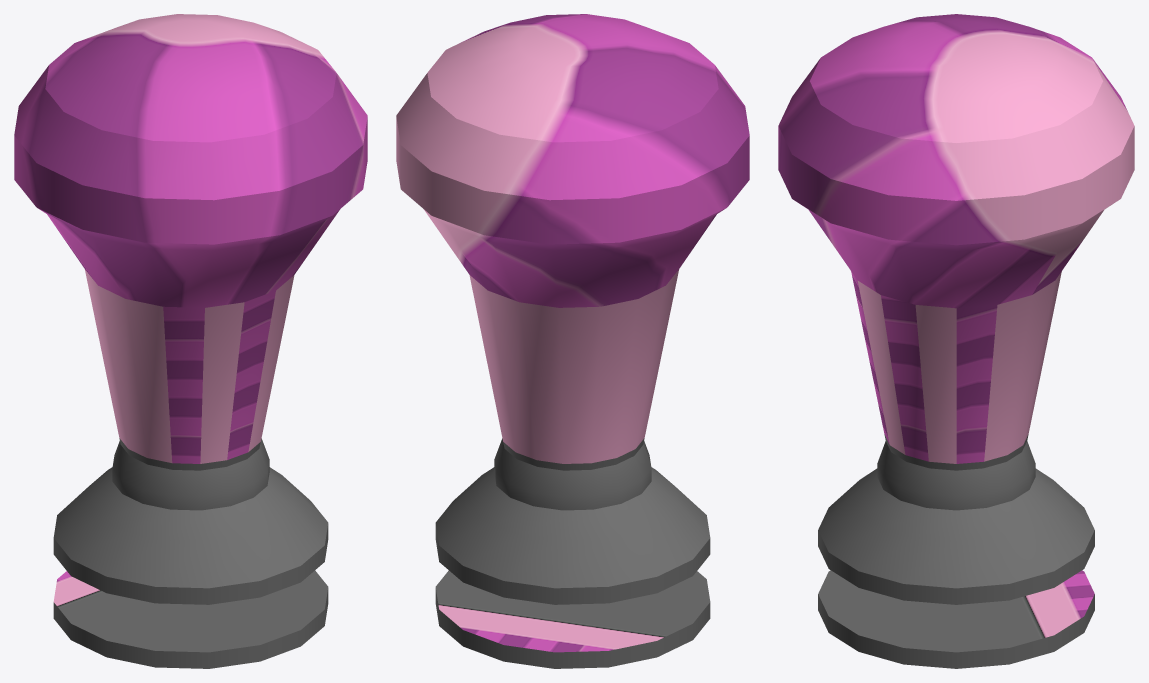
File: engel_son_.fbx
3 views of the same model, side by side, from view 1: azimuth 30°, elevation 25°; view 2: azimuth 150°, elevation 25°; view 3: azimuth 270°, elevation 25° (orthographic).
Parts seen in each view (by area): view 1: Cylinder.016, Cylinder.014; view 2: Cylinder.016, Cylinder.014; view 3: Cylinder.016, Cylinder.014.
Part boxes in pixels (bbox=[...]): Cylinder.016: bbox=[14, 14, 367, 604]; Cylinder.014: bbox=[53, 570, 328, 668]; Cylinder.016: bbox=[396, 14, 749, 604]; Cylinder.014: bbox=[435, 570, 710, 668]; Cylinder.016: bbox=[778, 14, 1134, 604]; Cylinder.014: bbox=[818, 570, 1094, 668].
Bounding box in the file's own units: 2.57 × 4.52 × 2.57.
1 material, 1 textured.
